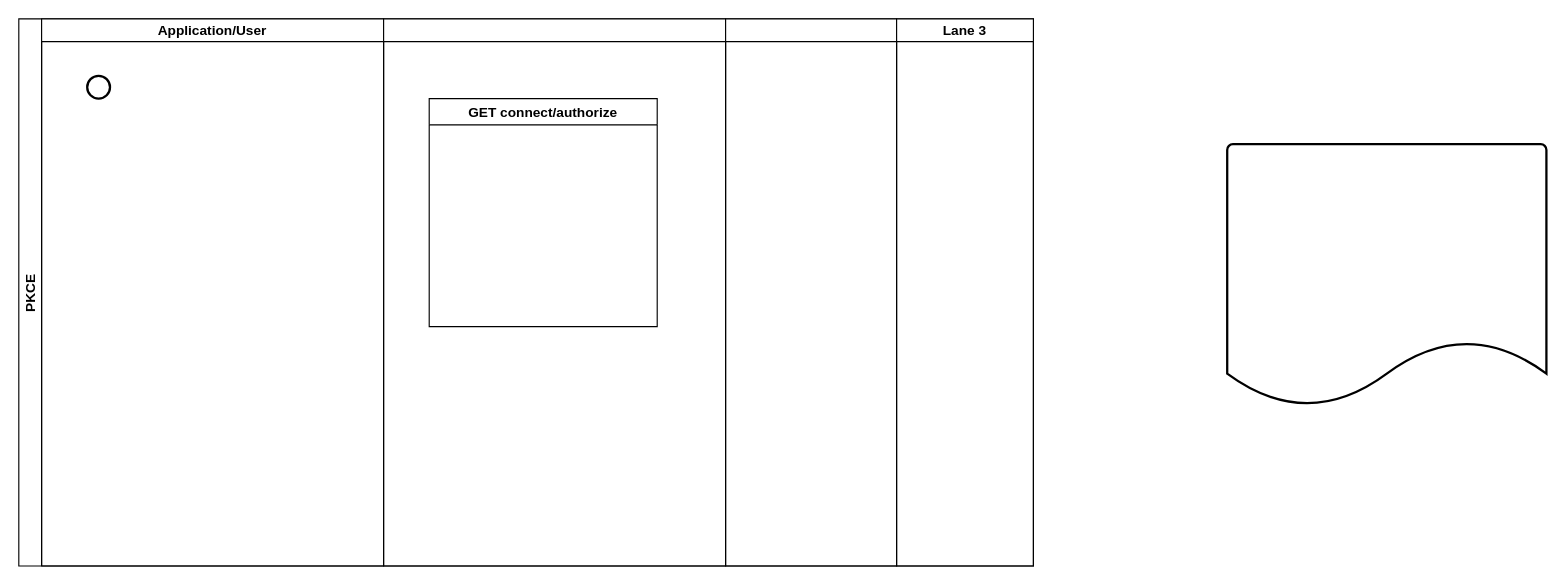
Some shapes in this 1565 by 585 pixel diagram are drawn without their labels. The box of each missing label's shape, as (x1, y1, x2, y2) in pixels:
connect/authorize (AuthorizeController): (382, 18, 726, 566)
Lane 2: (724, 18, 897, 566)
